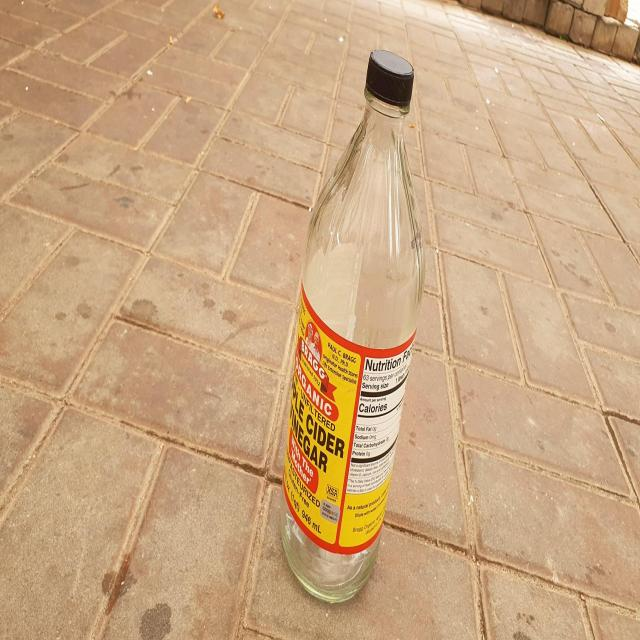glass: (281, 49, 425, 602)
